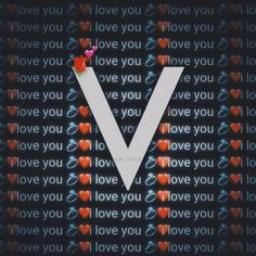v: (66, 54, 192, 196)
